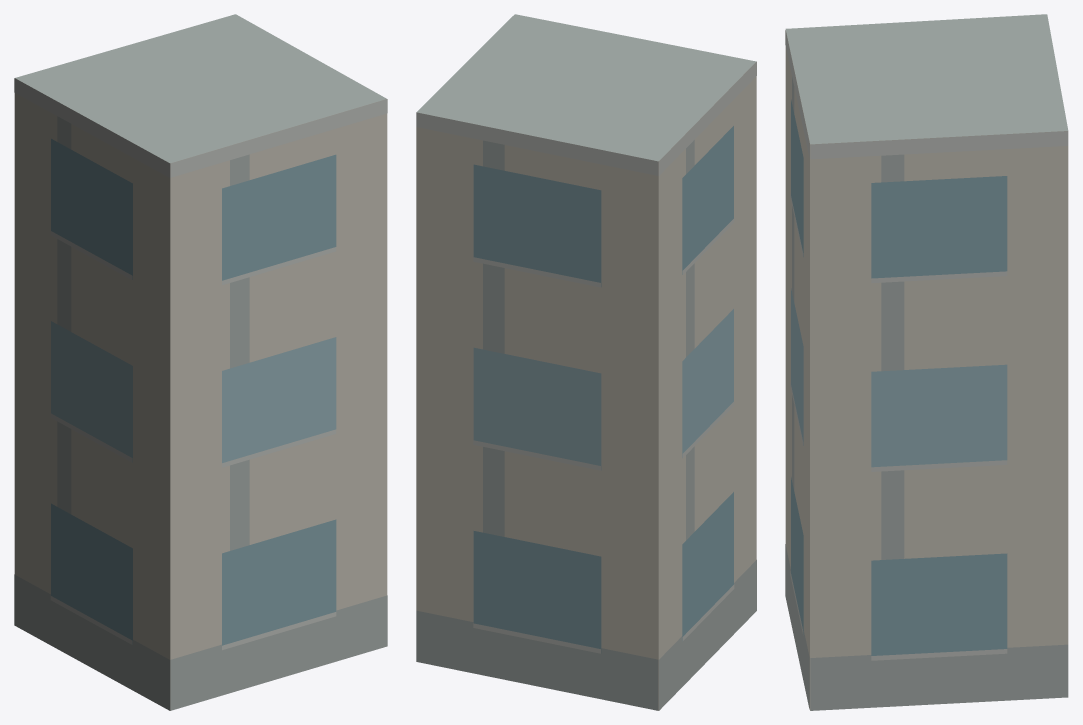
Rendered from survey-upis-32634316.glb.
3 renders of one model, left to right at view 1: azimuth 30°, elevation 25°; view 2: azimuth 150°, elevation 25°; view 3: azimuth 270°, elevation 25°, orthographic. The views are drawn at different scales.
Parts seen in each view (by area): view 1: survey-upis-32634316.tmp; view 2: survey-upis-32634316.tmp; view 3: survey-upis-32634316.tmp.
Boxes of the visible parts, x1,y1,x2,y2 form: survey-upis-32634316.tmp: [14, 14, 387, 710]; survey-upis-32634316.tmp: [416, 14, 756, 710]; survey-upis-32634316.tmp: [785, 14, 1068, 710].
Size of the model in its own units: 4.53 by 9.15 by 4.15.
